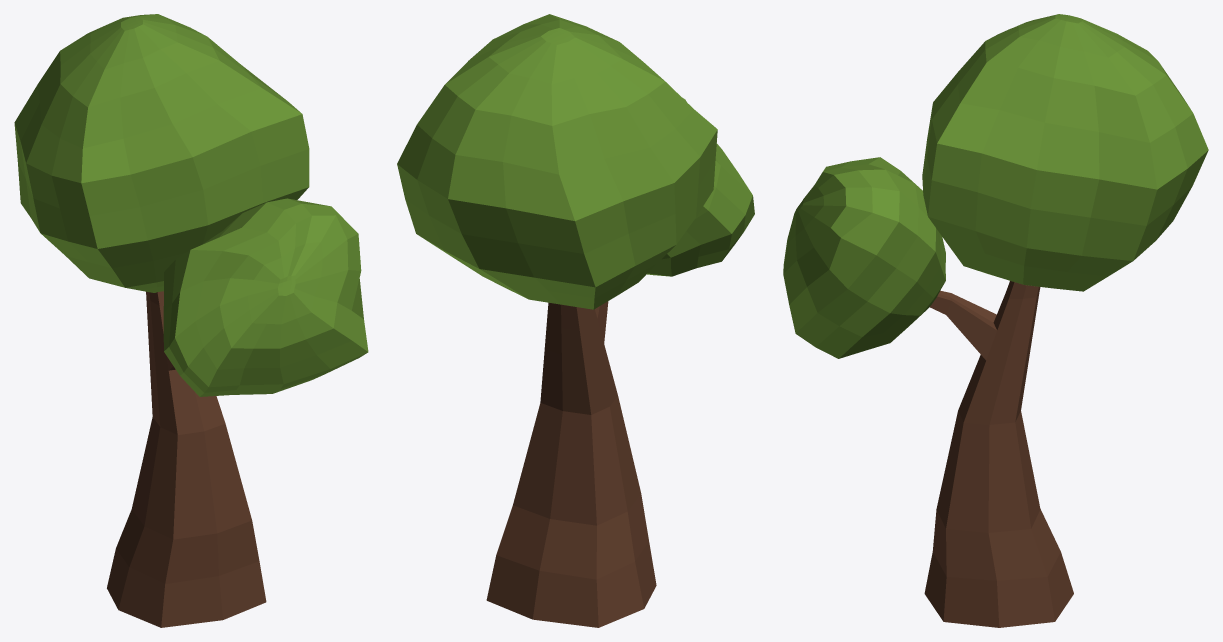
The model's file is tree.glb.
3 views of the same model, side by side, from view 1: azimuth 30°, elevation 25°; view 2: azimuth 150°, elevation 25°; view 3: azimuth 270°, elevation 25° (orthographic). The views are drawn at different scales.
Visible parts, largest first — view 1: Tree; view 2: Tree; view 3: Tree.
Boxes of the visible parts, x1,y1,x2,y2 form: Tree: (14, 14, 368, 627); Tree: (397, 14, 754, 627); Tree: (783, 14, 1208, 627).
Size of the model in its own units: 1.96 by 4.52 by 3.07.
Materials: 1 (1 with a texture image).
